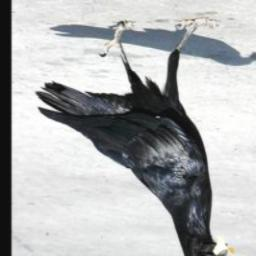Crow: (34, 16, 233, 256)
